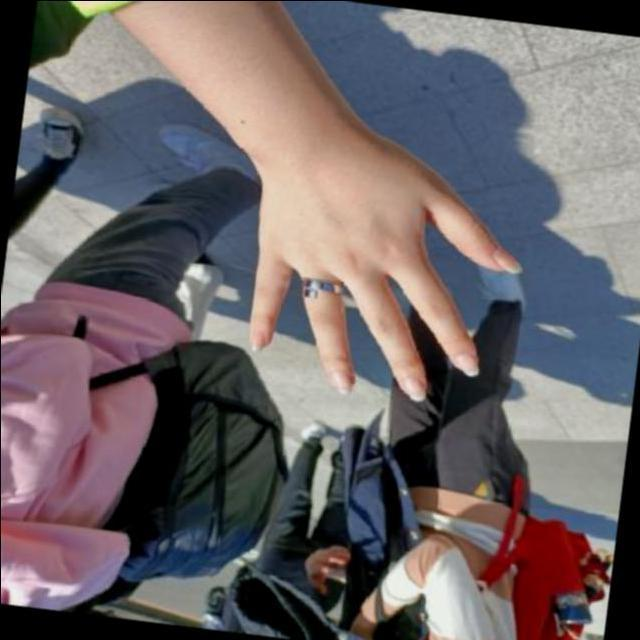hand: (207, 108, 552, 426)
